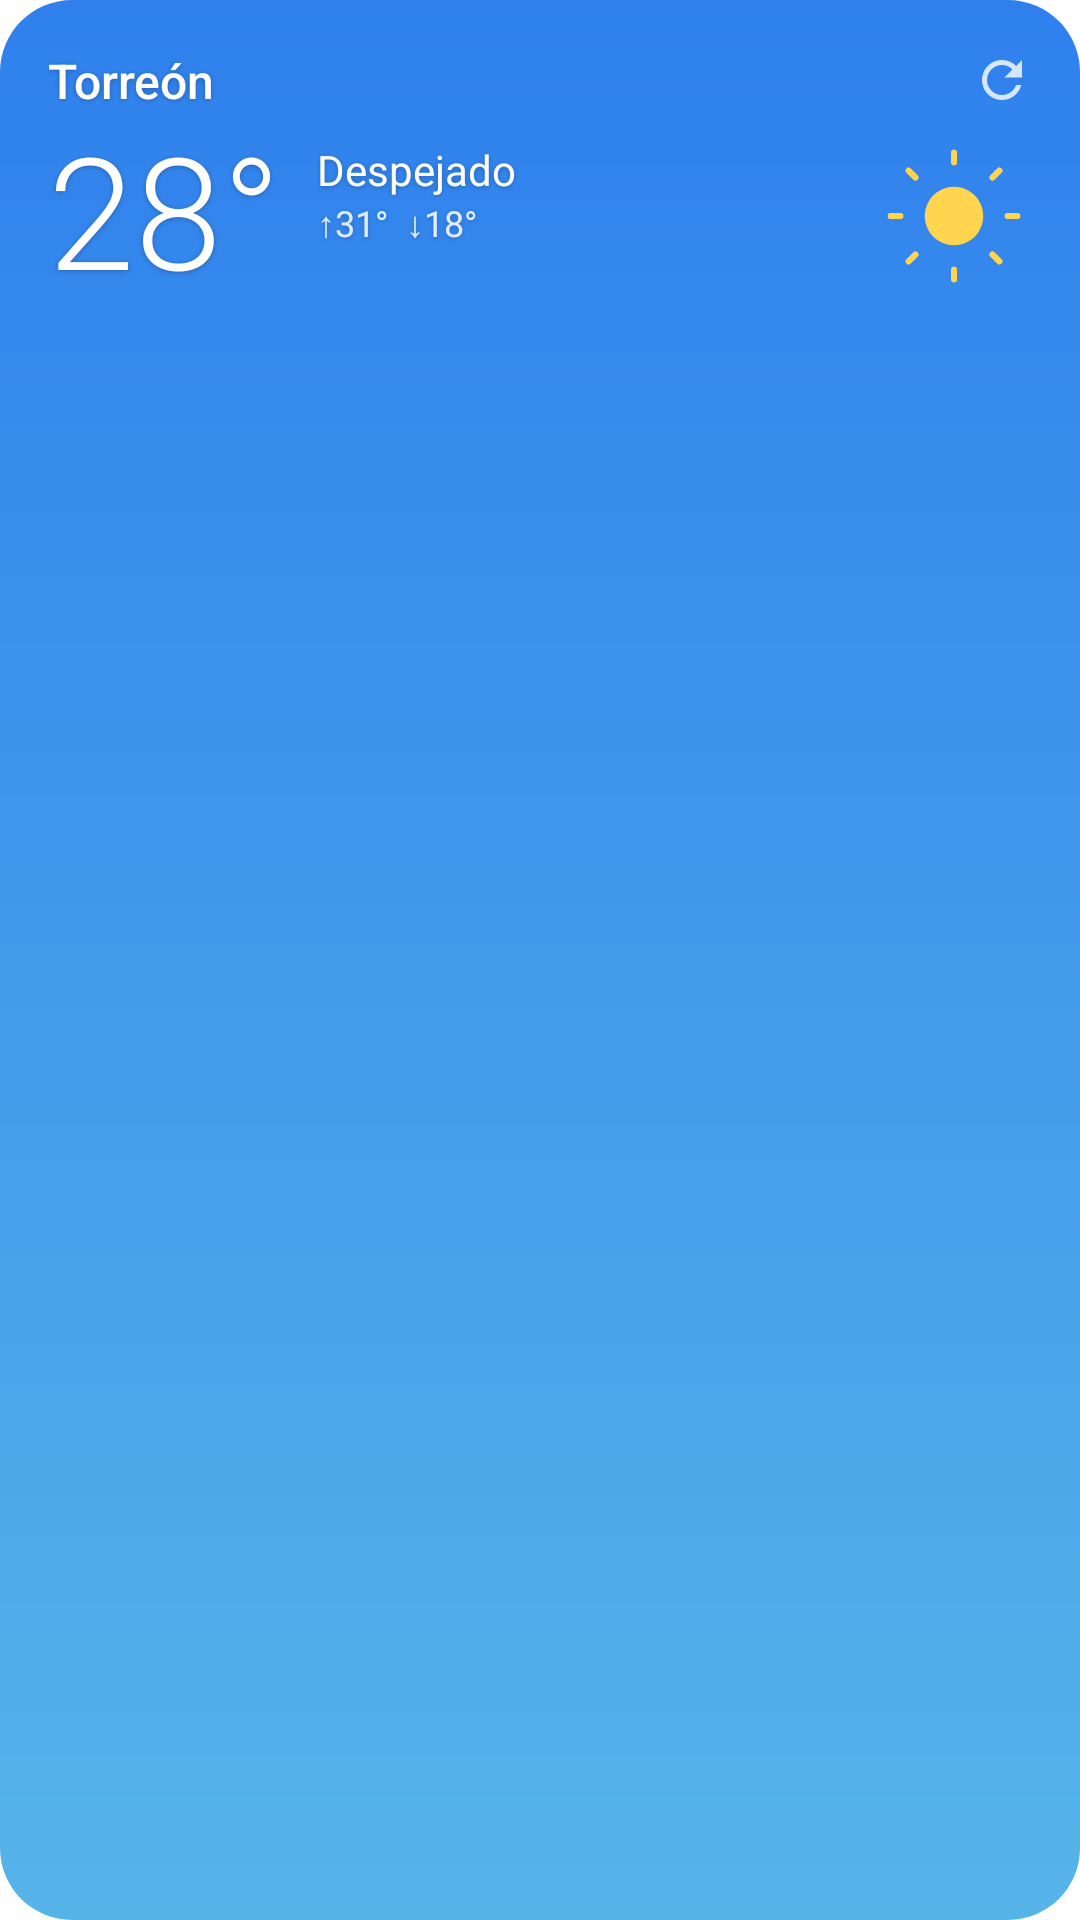

Where icons sit on this 1080px x 1920px app screen, as [x1, y1, x2, y2]:
Actualizar: [982, 60, 1022, 100]
weather sunny: [887, 149, 1021, 283]
